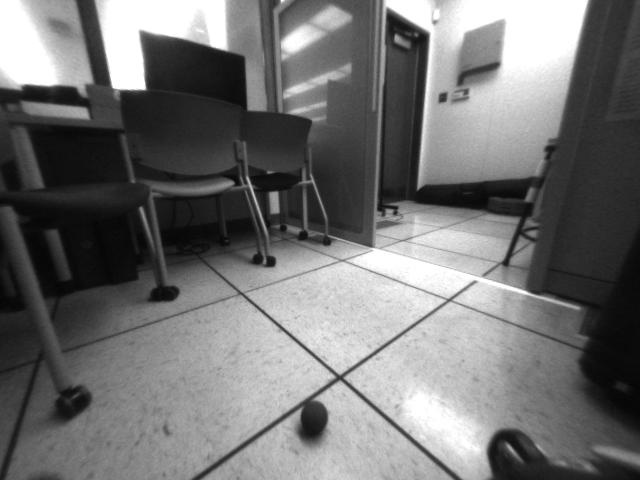dogtoy: (295, 392, 333, 444)
